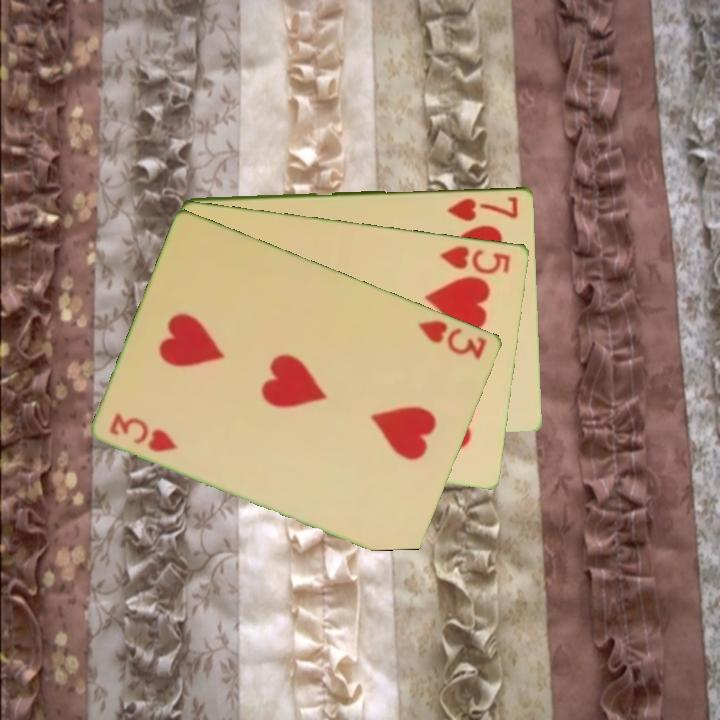3h: (414, 316, 490, 362), (106, 409, 181, 455)
5h: (437, 241, 514, 277)
7h: (444, 192, 522, 223)
